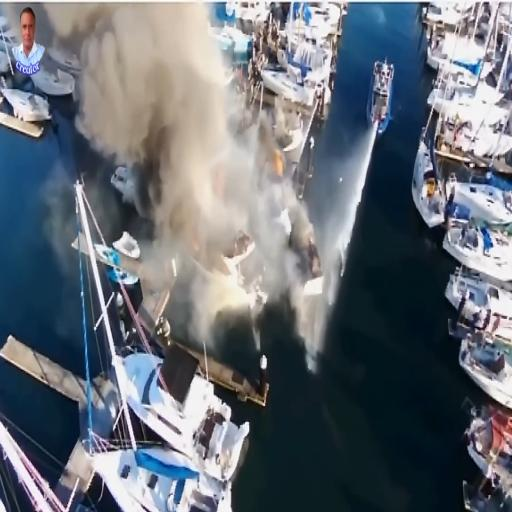smoke: (97, 10, 201, 210)
